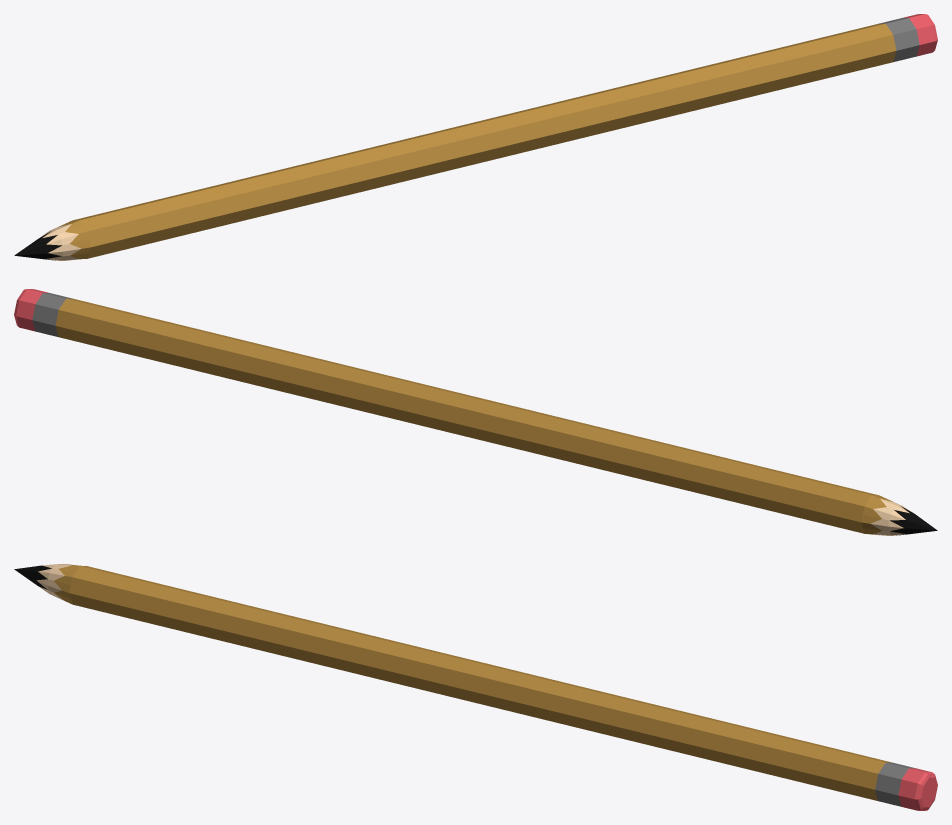
The model's file is Pencil.fbx.
3 renders of one model, top to bottom at view 1: azimuth 30°, elevation 25°; view 2: azimuth 150°, elevation 25°; view 3: azimuth 330°, elevation 25°, orthographic.
Parts seen in each view (by area): view 1: Cone.003; view 2: Cone.003; view 3: Cone.003.
Boxes of the visible parts, x1,y1,x2,y2 form: Cone.003: (14, 14, 937, 260); Cone.003: (14, 289, 937, 535); Cone.003: (14, 564, 937, 810).
Bounding box in the file's own units: 14.99 × 0.6062 × 0.6062.
